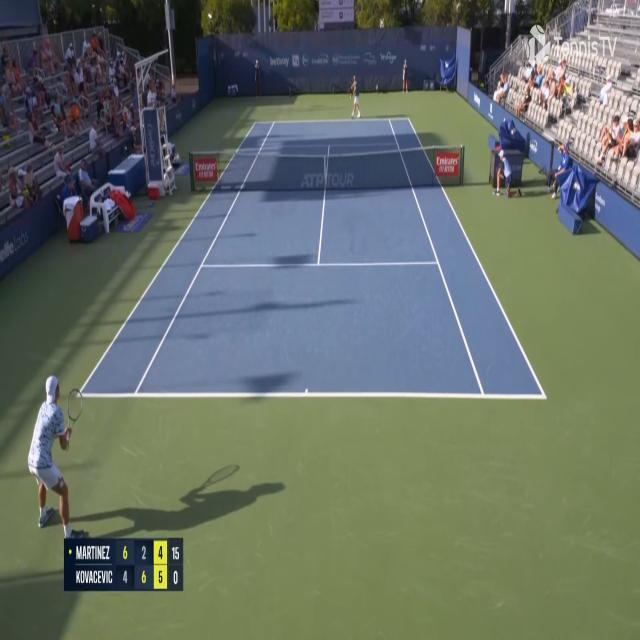tennis-player: (23, 369, 86, 541), (348, 75, 362, 121)
